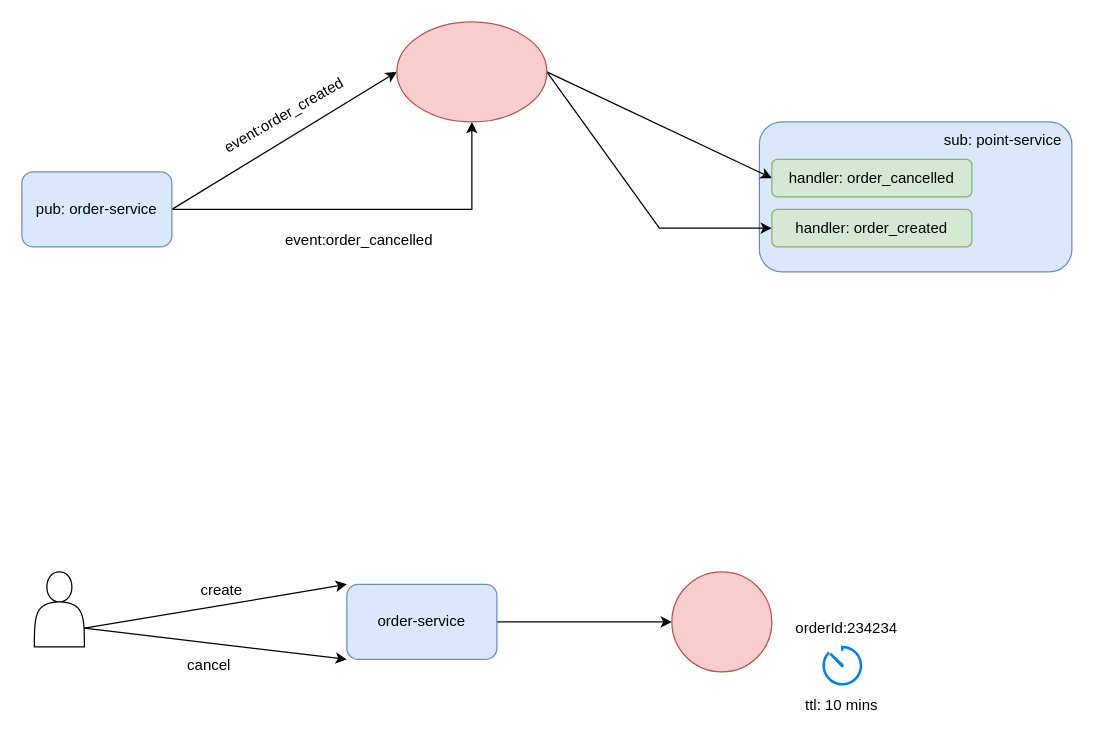
The diagram is 1094 pixels wide and 745 high, and some of its shapes have lost their labels. Each missing label, with the box of its shape:
channel: ORDER: (396, 21, 547, 122)
statestore: (671, 571, 772, 672)
